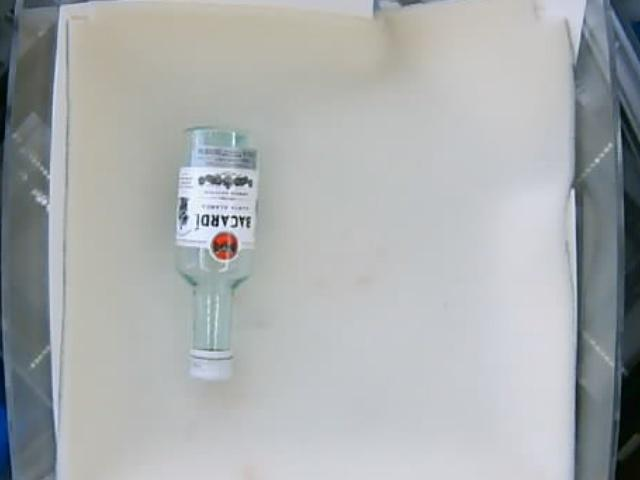Bottle: (169, 126, 261, 381)
